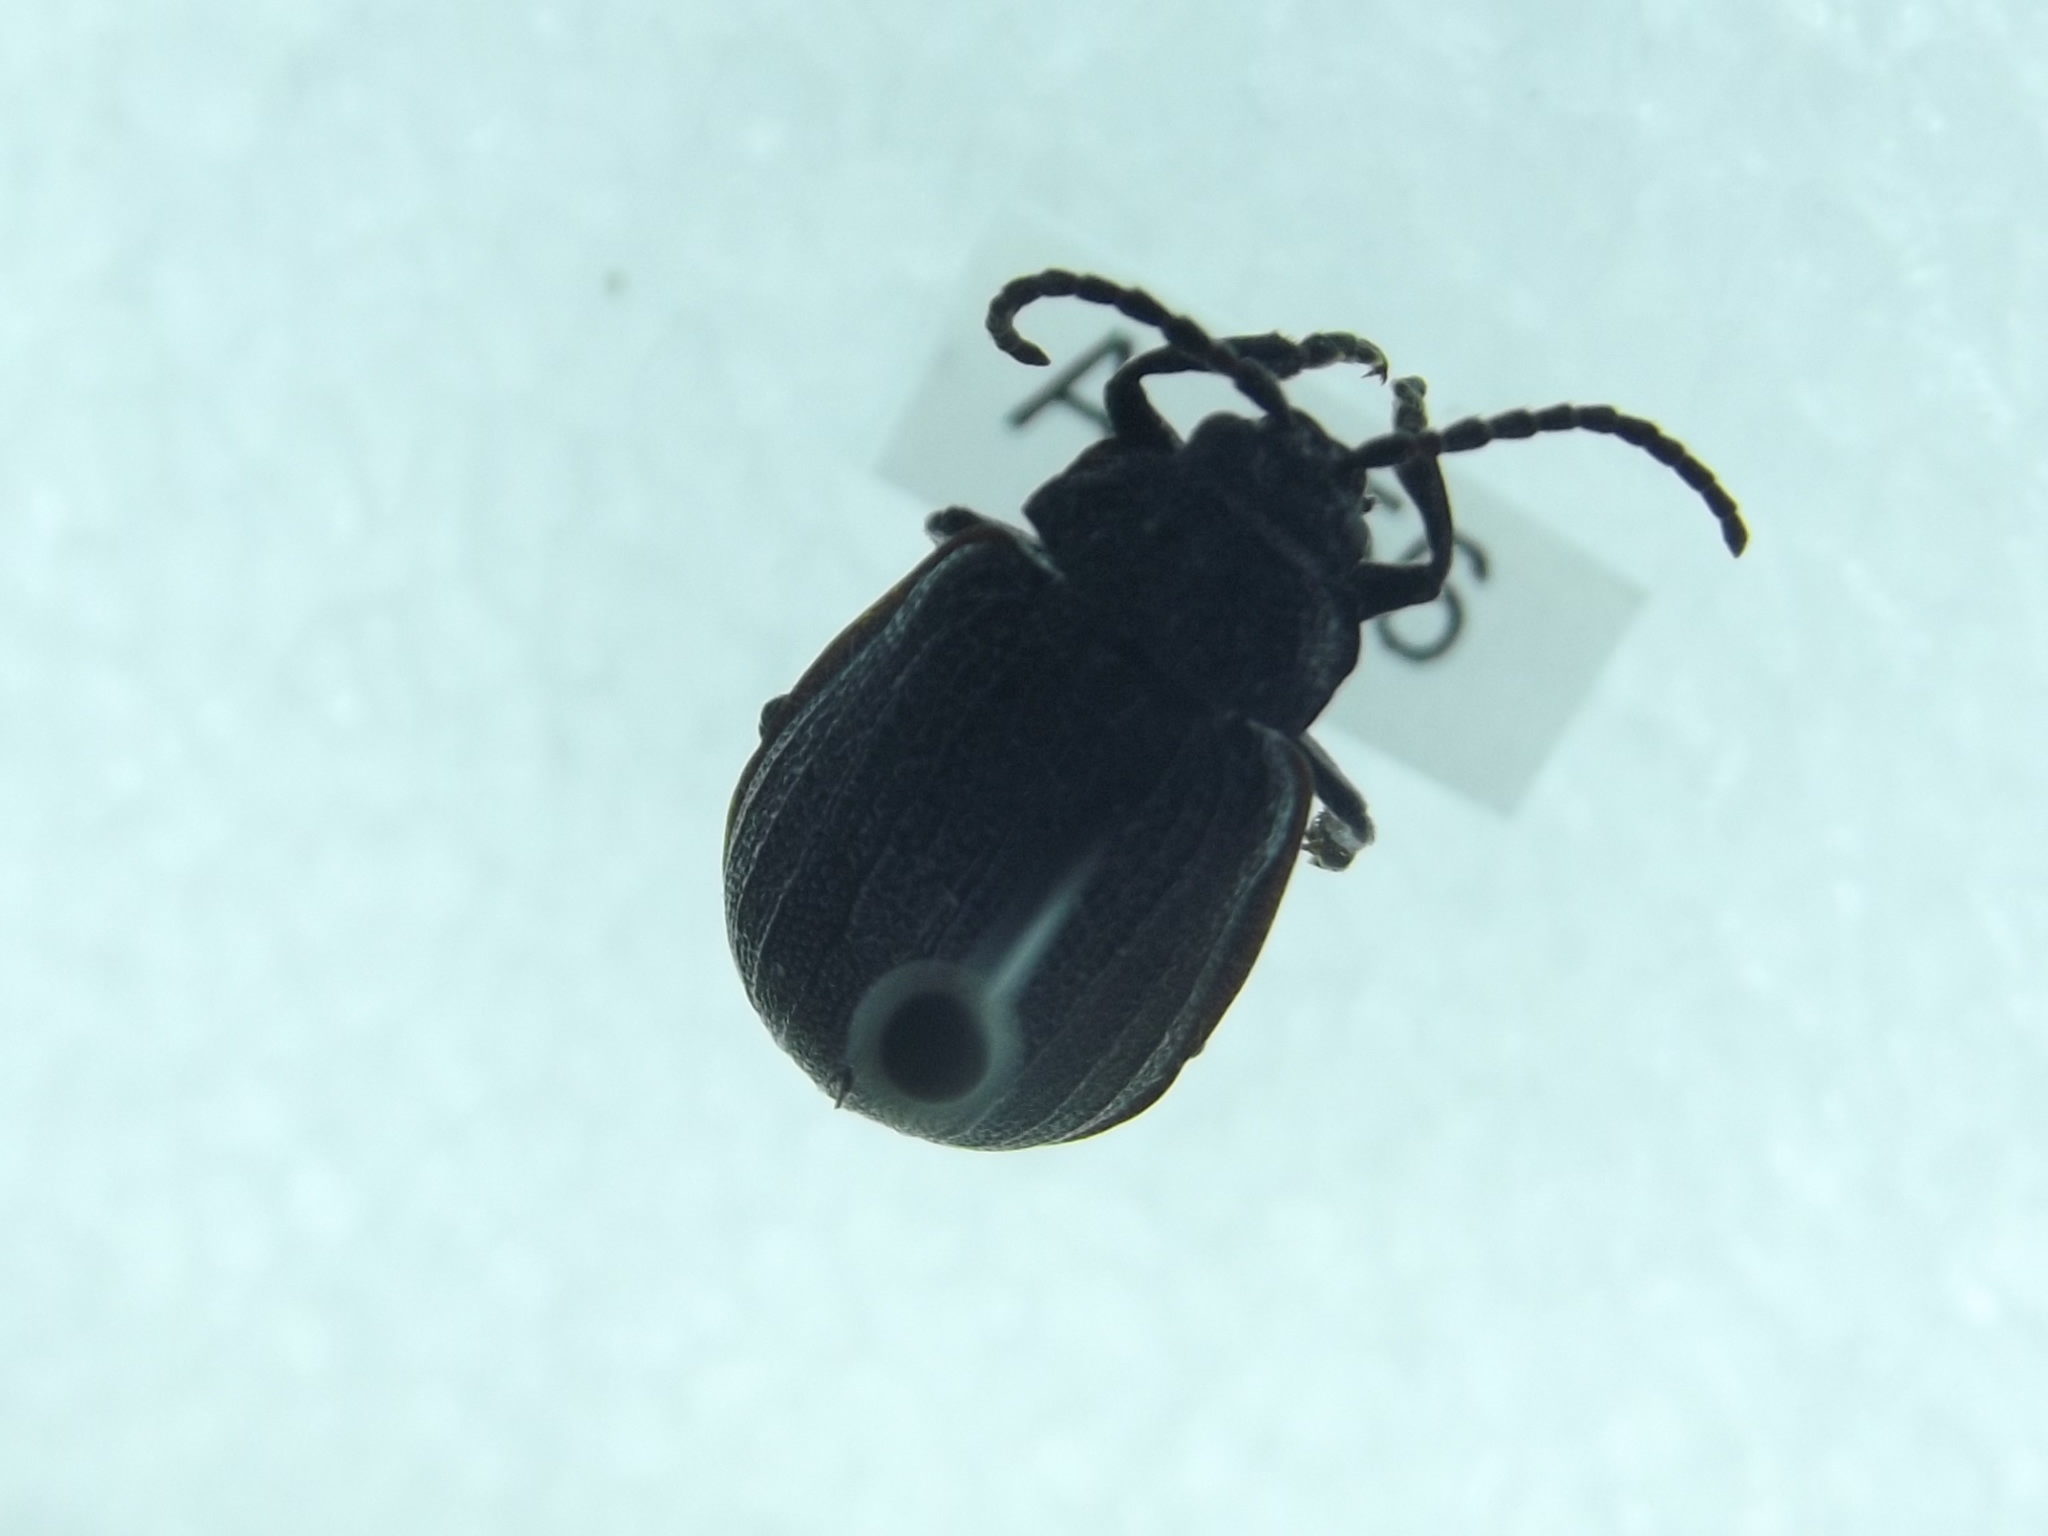Galeruca_tanaceti: (677, 244, 1759, 1160)
